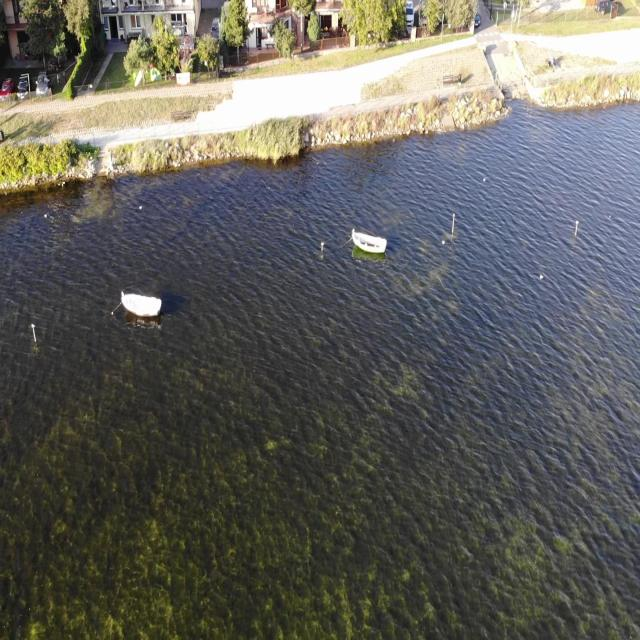boat: (121, 286, 162, 322), (351, 227, 387, 261)
